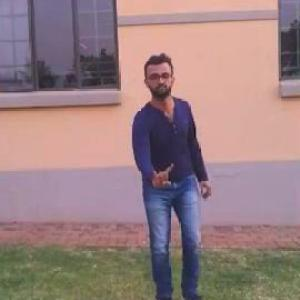takeoff-hand: (145, 156, 179, 194)
